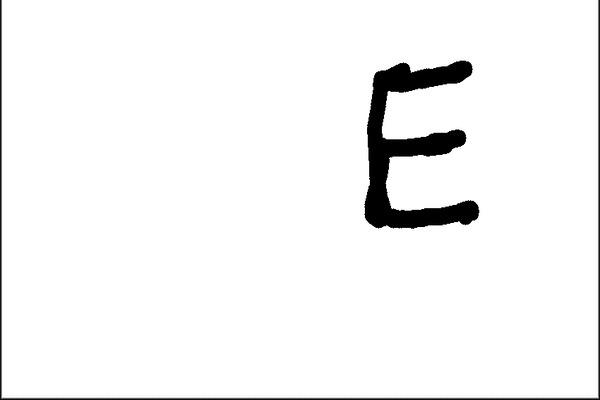E: (359, 56, 483, 232)
